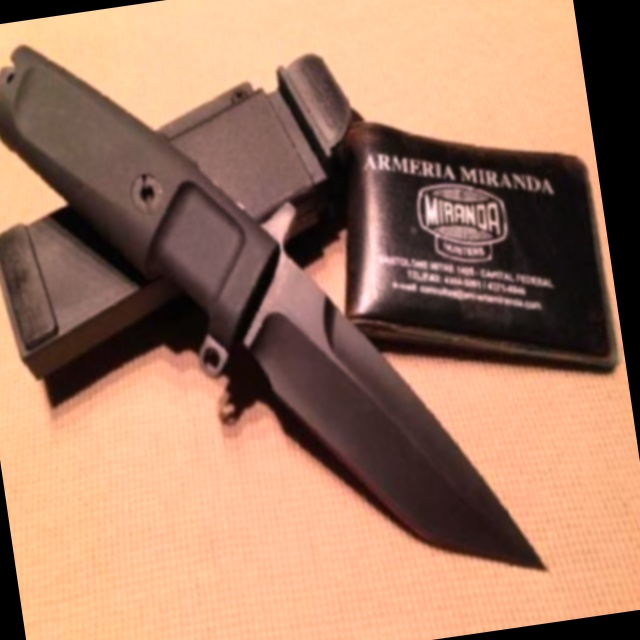Sharp-Object: (0, 0, 547, 640)
